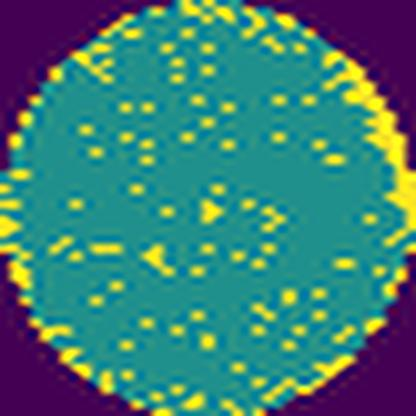Edge-Loc: (321, 0, 415, 248)
